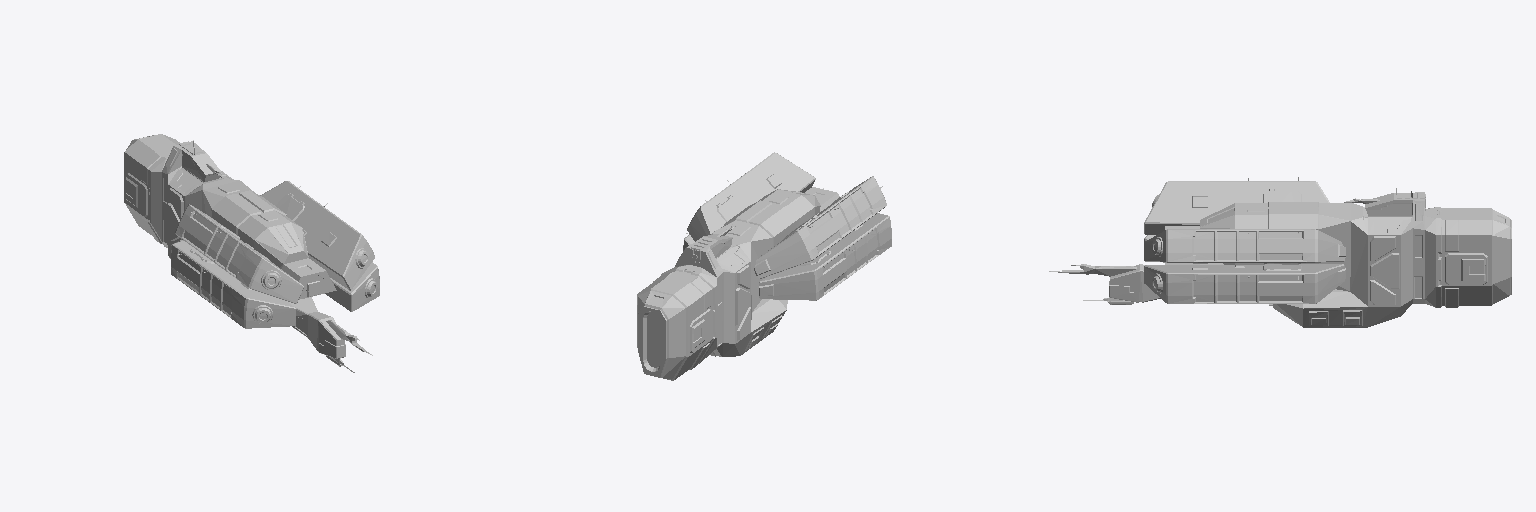
3 renders of one model, left to right at view 1: azimuth 30°, elevation 25°; view 2: azimuth 150°, elevation 25°; view 3: azimuth 270°, elevation 25°, orthographic.
Parts seen in each view (by area): view 1: Kus_MissileDestroyer; view 2: Kus_MissileDestroyer, Kus_MissileDestroyerEngine; view 3: Kus_MissileDestroyer.
Part boxes in pixels (x1,y1,x2,y2): Kus_MissileDestroyer: (124,134,379,372); Kus_MissileDestroyer: (637,152,891,380); Kus_MissileDestroyerEngine: (638,307,665,377); Kus_MissileDestroyer: (1049,177,1511,327).
Size of the model in its own units: 116 by 102 by 322.